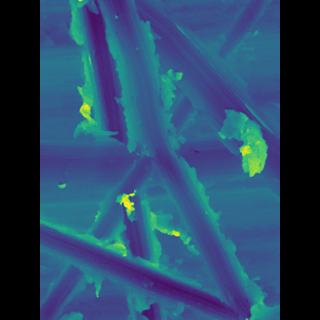Loch: (121, 1, 232, 319), (143, 0, 249, 207), (70, 218, 219, 320), (95, 0, 135, 147)
